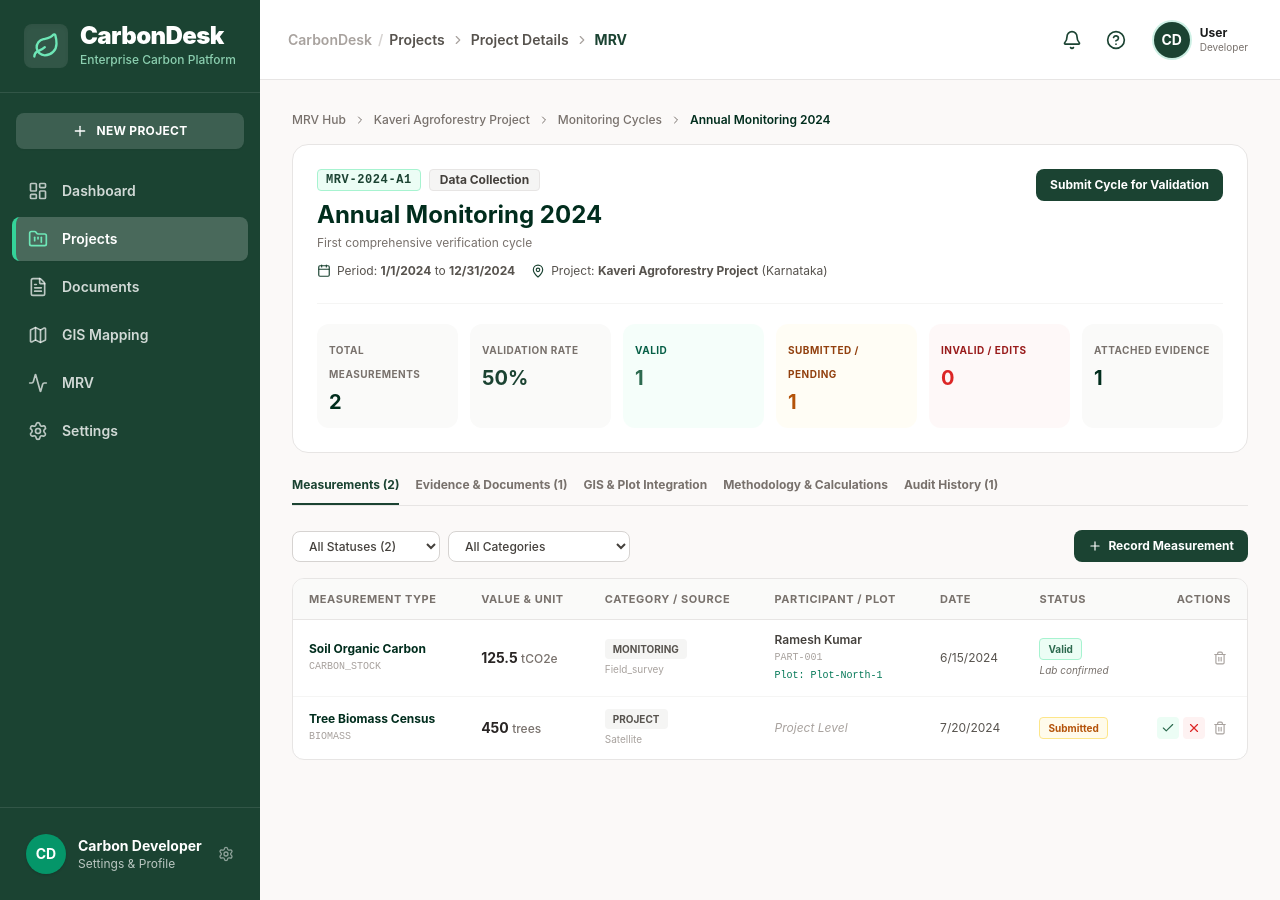
Test case: MRVCycleDetailsPage Component › switches between tabs (Evidence, GIS, Methodology, Audit)
Check: the text "Annual Monitoring 2024" is shown, box [690,112,831,128]
# Switch to Evidence tab
Click the button "Evidence & Documents (1)" at (491, 491), box [415,477,568,505]
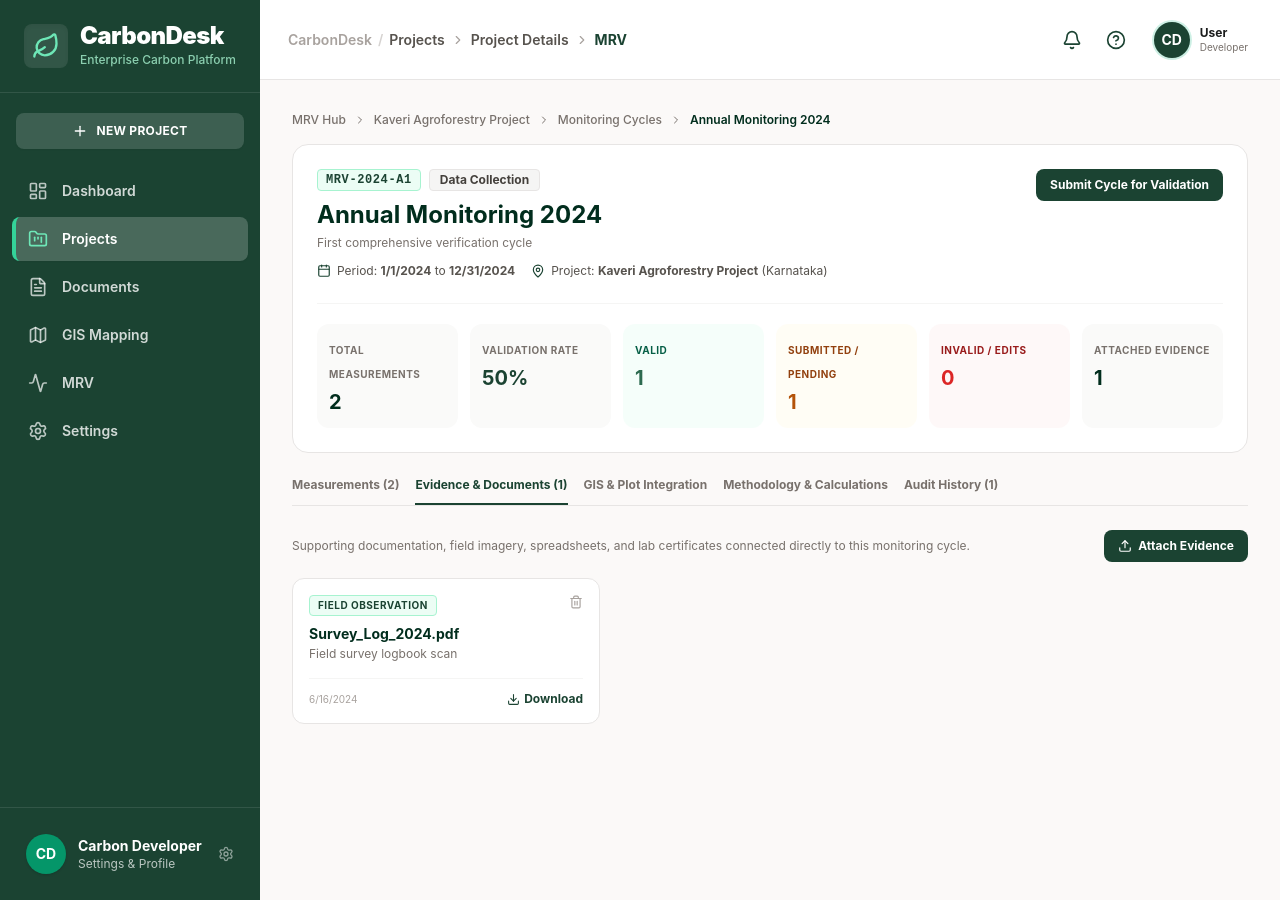
Check: the heading "Survey_Log_2024.pdf" is shown, box [309,625,459,642]
Check: the text "Field survey logbook scan" is shown, box [309,646,457,661]
# Switch to GIS tab
Click the button "GIS & Plot Integration" at (645, 491), box [584,477,707,505]
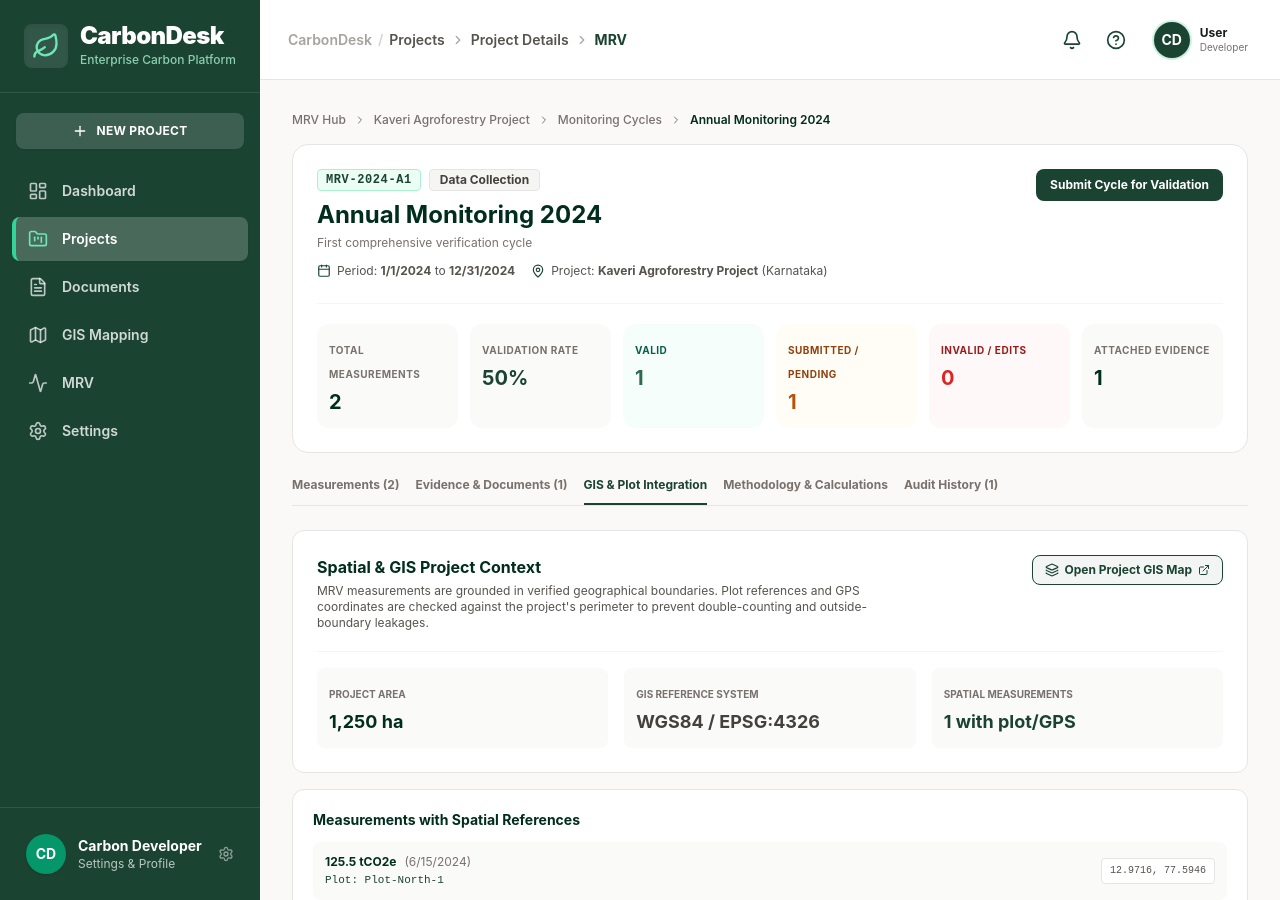
Check: the heading "Spatial & GIS Project Context" is shown, box [317,557,541,577]
Check: the text "WGS84 / EPSG:4326" is shown, box [636,711,820,732]
# Switch to Methodology tab
Click the button "Methodology & Calculations" at (806, 491), box [723,477,888,505]
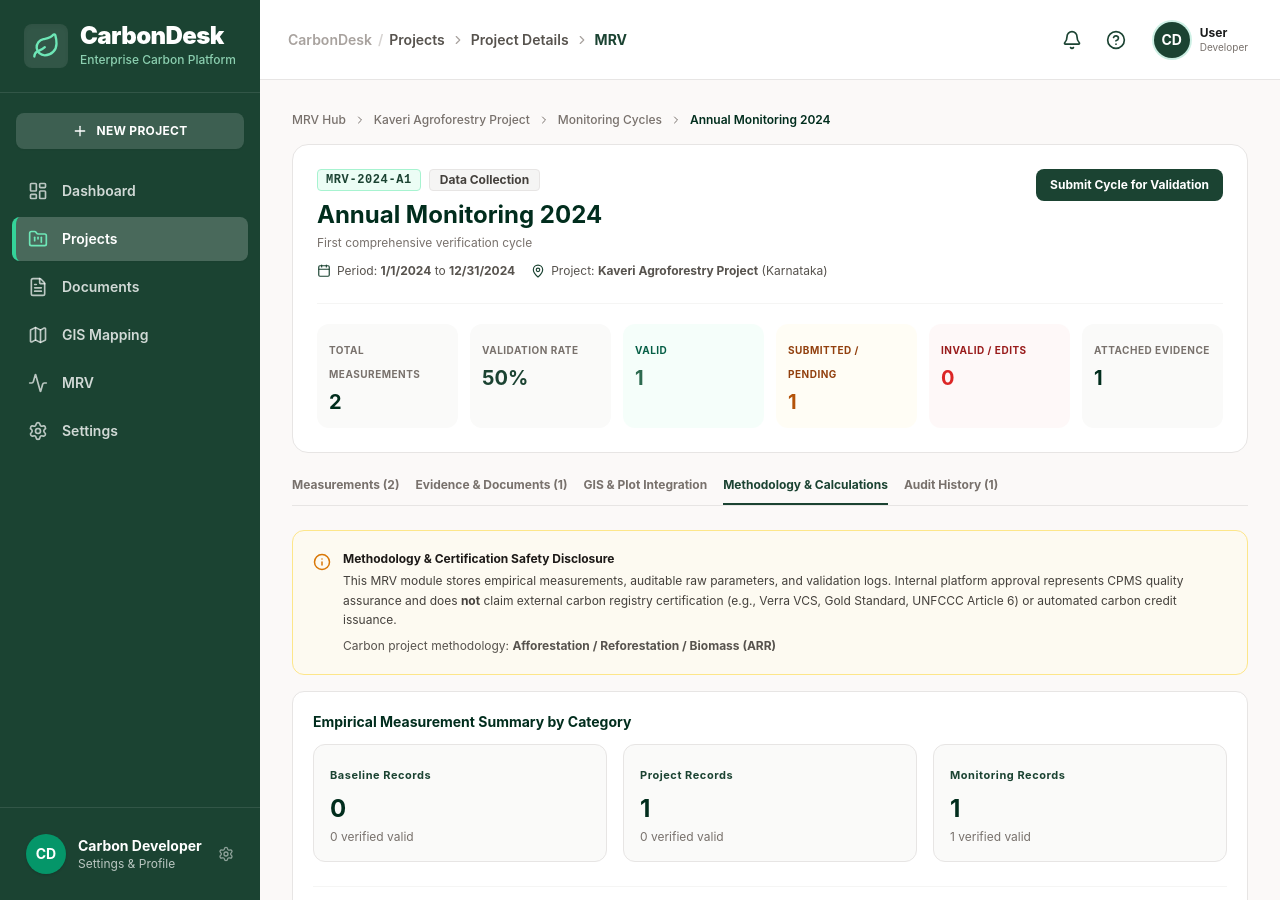
Check: the heading "Methodology & Certification Safety Disclosure" is shown, box [343,551,614,566]
